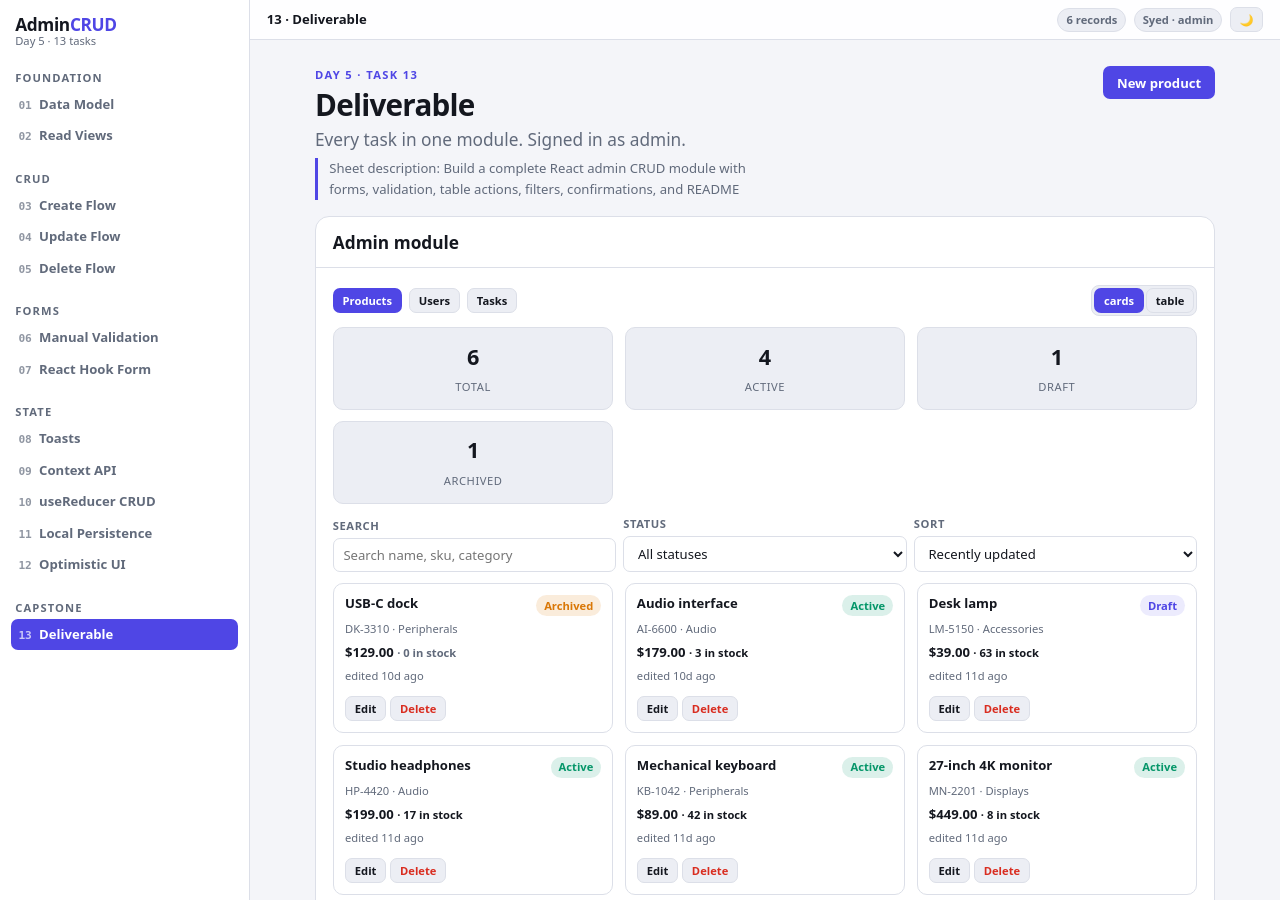
task 13 — the deliverable › switches between card and table views
Expected: the text "Day 5 · Task 13" is shown, left=315, top=67, right=418, bottom=82
Expected: the element with class "record" that starts with "USB-C dock" is shown, left=333, top=583, right=614, bottom=733
Click the button "table".
click(1170, 301)  # box left=1146, top=288, right=1194, bottom=313
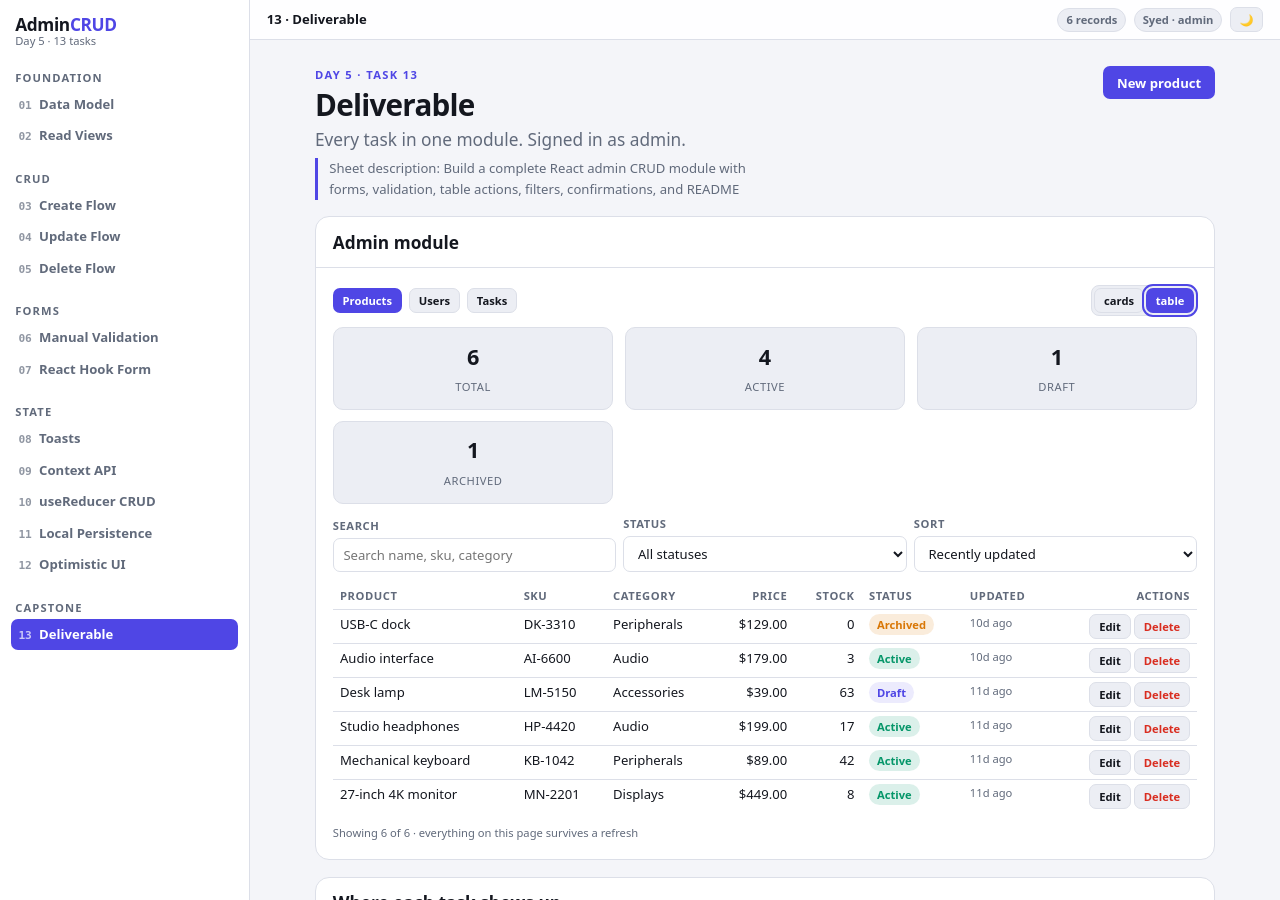
Result: no elements with class "record" are shown
Click the button "cards".
click(1119, 301)  # box left=1094, top=288, right=1144, bottom=313
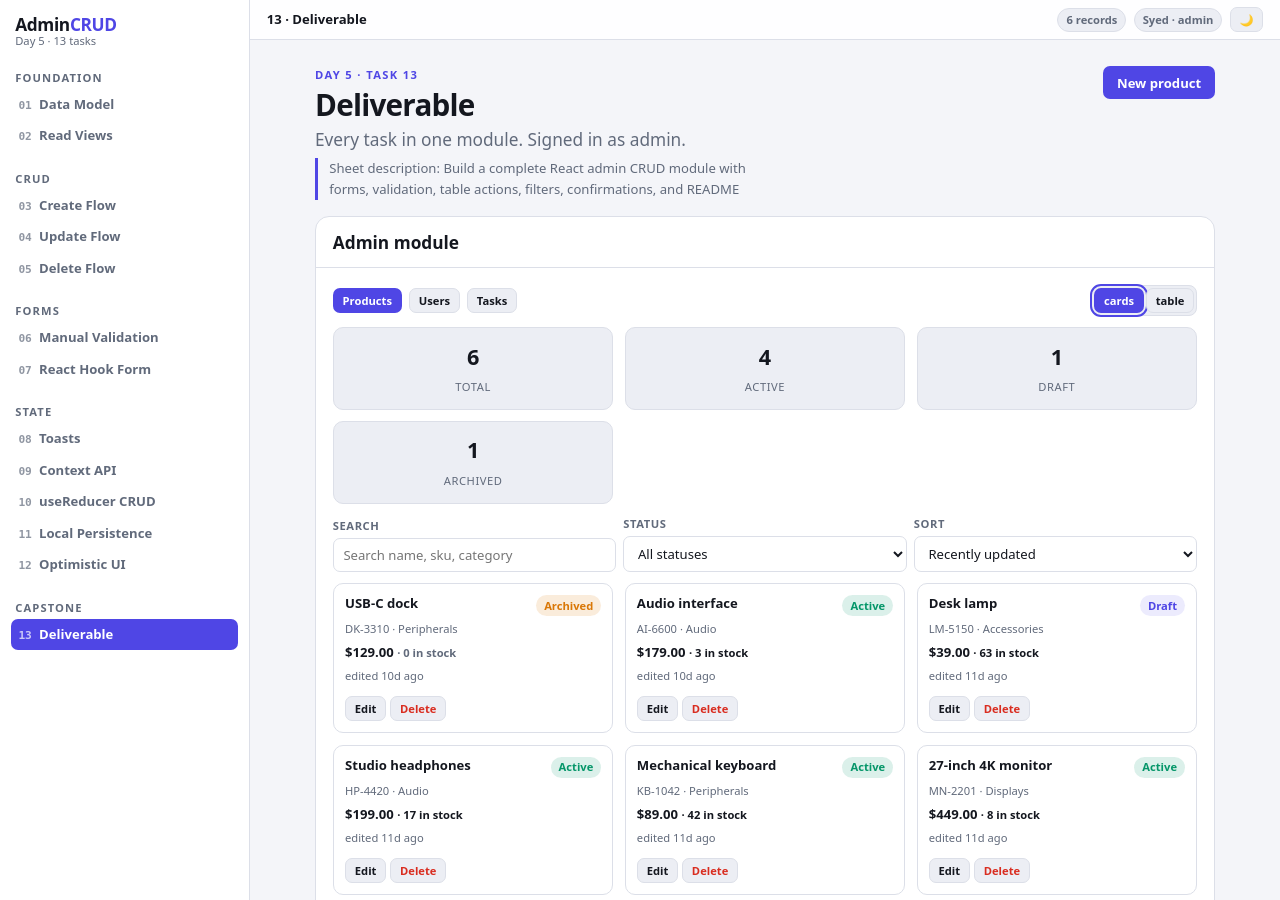
Result: the element with class "record" that starts with "USB-C dock" is shown at left=333, top=583, right=614, bottom=733
